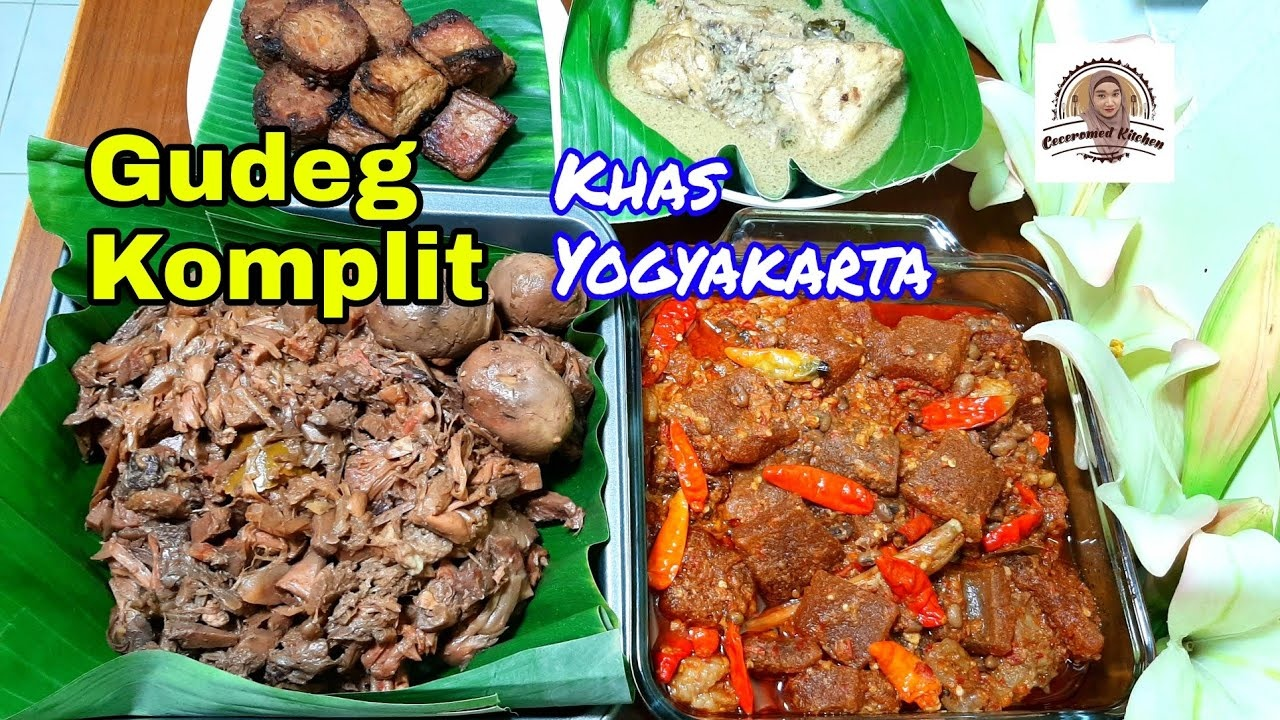gudeg: (77, 316, 589, 687)
